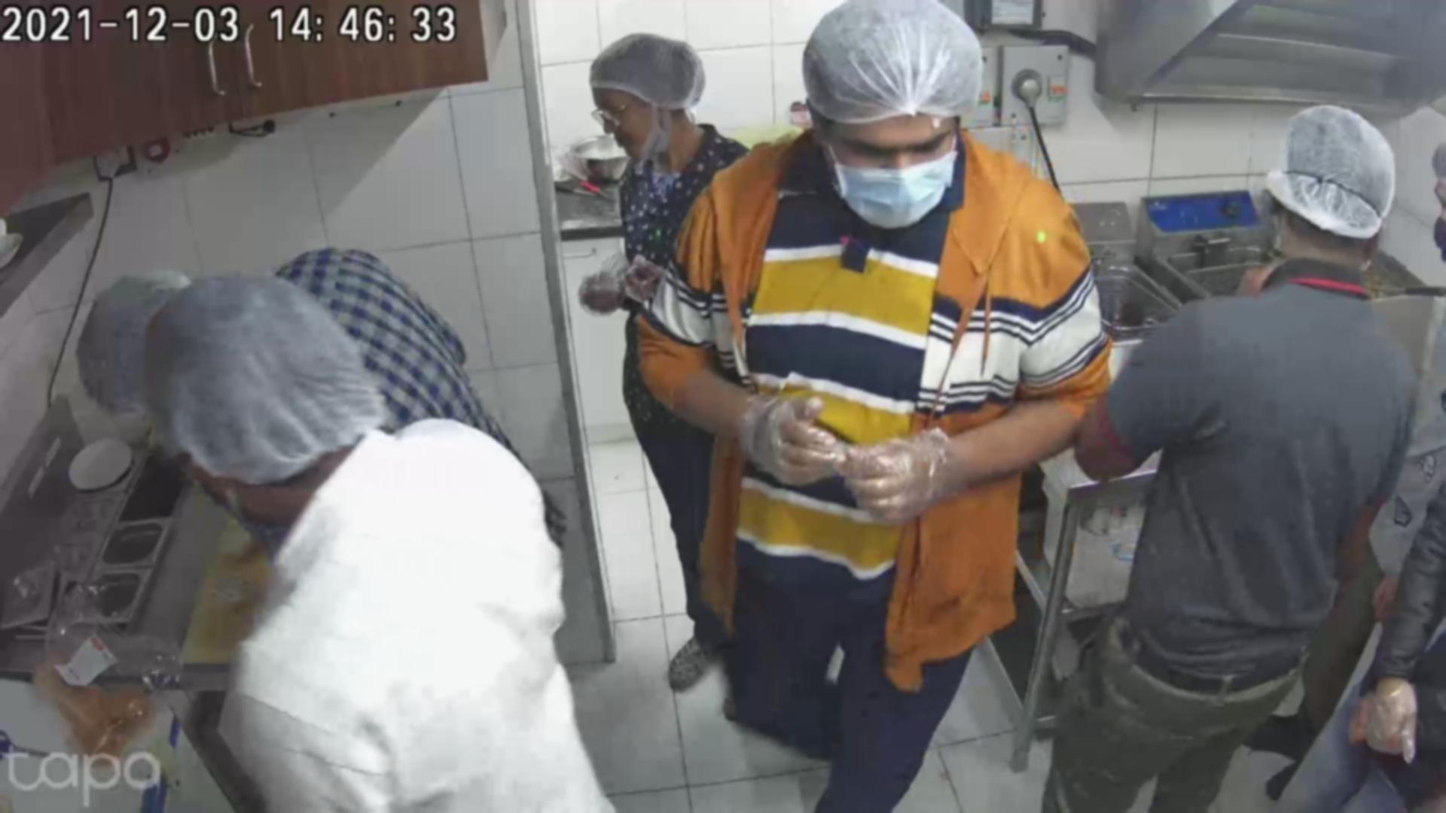apron: (837, 402, 999, 557), (721, 382, 848, 496), (1367, 663, 1428, 768), (616, 237, 677, 314), (576, 257, 632, 321)
gloves: (157, 252, 383, 487), (1251, 81, 1417, 272), (779, 0, 1009, 126), (74, 247, 192, 408), (581, 26, 725, 112)
mask: (828, 130, 955, 227)
no_hairnet: (592, 85, 661, 156)
